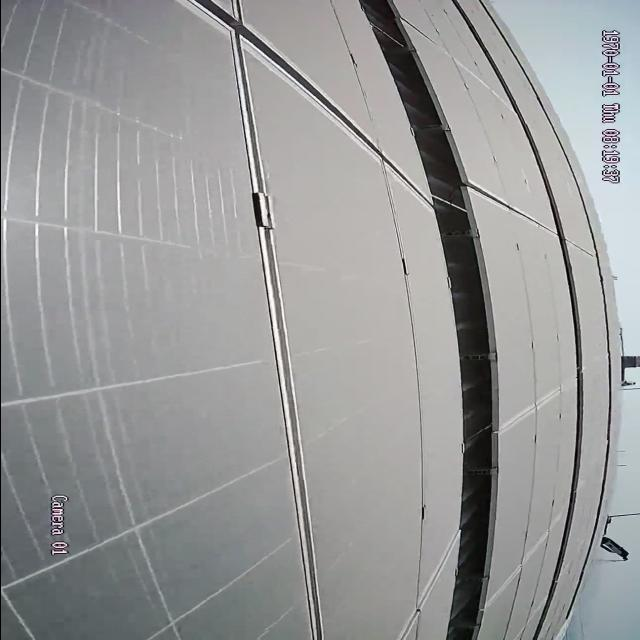interior panel: (175, 3, 421, 634), (398, 530, 452, 640), (493, 517, 555, 610), (478, 182, 551, 236), (506, 383, 568, 428)
outher panel: (354, 1, 496, 639)
